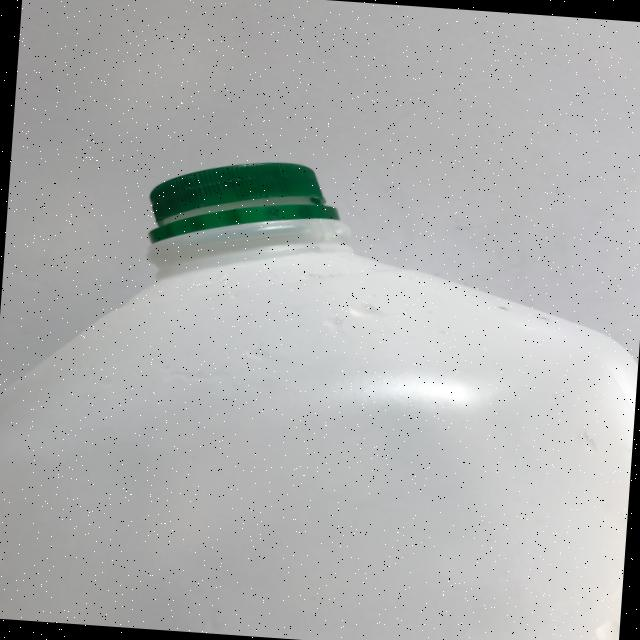plastic: (0, 142, 640, 640)
